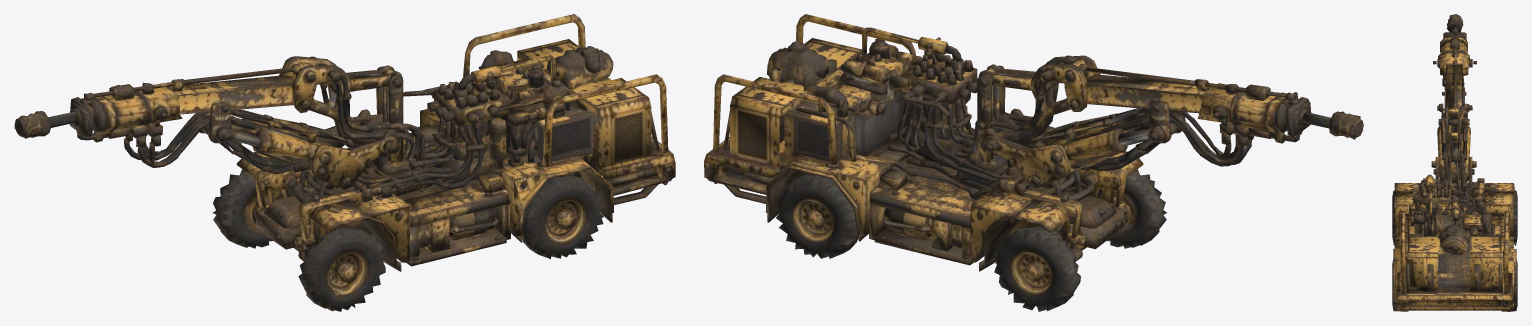
Rendered from reactor-rock-drill-rig.glb.
The picture shows the model from 3 angles, left to right: view 1: azimuth 30°, elevation 25°; view 2: azimuth 150°, elevation 25°; view 3: azimuth 270°, elevation 25°; orthographic projection. The views are drawn at different scales.
Parts seen in each view (by area): view 1: reactor-rock-drill-rig; view 2: reactor-rock-drill-rig; view 3: reactor-rock-drill-rig.
Part boxes in pixels (bbox=[...]): reactor-rock-drill-rig: bbox=[14, 14, 675, 311]; reactor-rock-drill-rig: bbox=[704, 14, 1363, 311]; reactor-rock-drill-rig: bbox=[1392, 14, 1517, 311].
Bounding box in the file's own units: 3.5 × 1.28 × 0.9824.
Materials: 1 (1 with a texture image).
